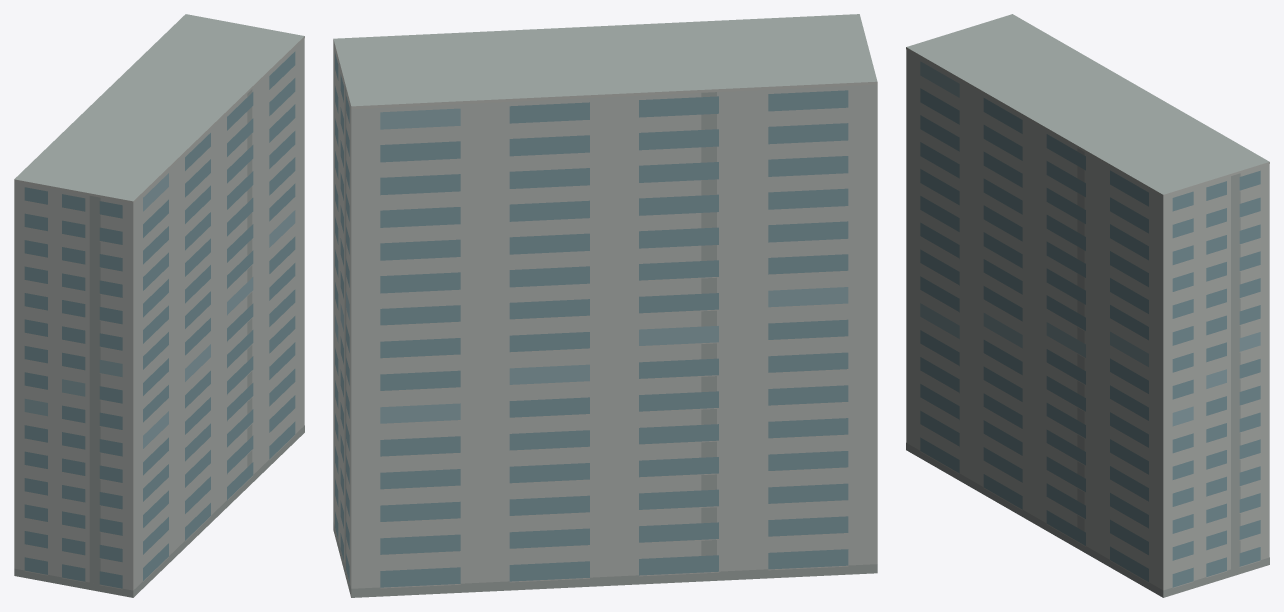
The model's file is residential-ec48bb4c-ace1-4fb2-9452-220f07693626.glb.
3 views of the same model, side by side, from view 1: azimuth 30°, elevation 25°; view 2: azimuth 150°, elevation 25°; view 3: azimuth 270°, elevation 25° (orthographic). The views are drawn at different scales.
Visible parts, largest first — view 1: residential-ec48bb4c-ace1-4fb2-9452-220f07693626.tmp; view 2: residential-ec48bb4c-ace1-4fb2-9452-220f07693626.tmp; view 3: residential-ec48bb4c-ace1-4fb2-9452-220f07693626.tmp.
Part boxes in pixels (x1,y1,x2,y2): residential-ec48bb4c-ace1-4fb2-9452-220f07693626.tmp: [14, 14, 304, 597]; residential-ec48bb4c-ace1-4fb2-9452-220f07693626.tmp: [333, 14, 877, 597]; residential-ec48bb4c-ace1-4fb2-9452-220f07693626.tmp: [906, 14, 1269, 597].
Bounding box in the file's own units: 40.44 × 42 × 34.35.
